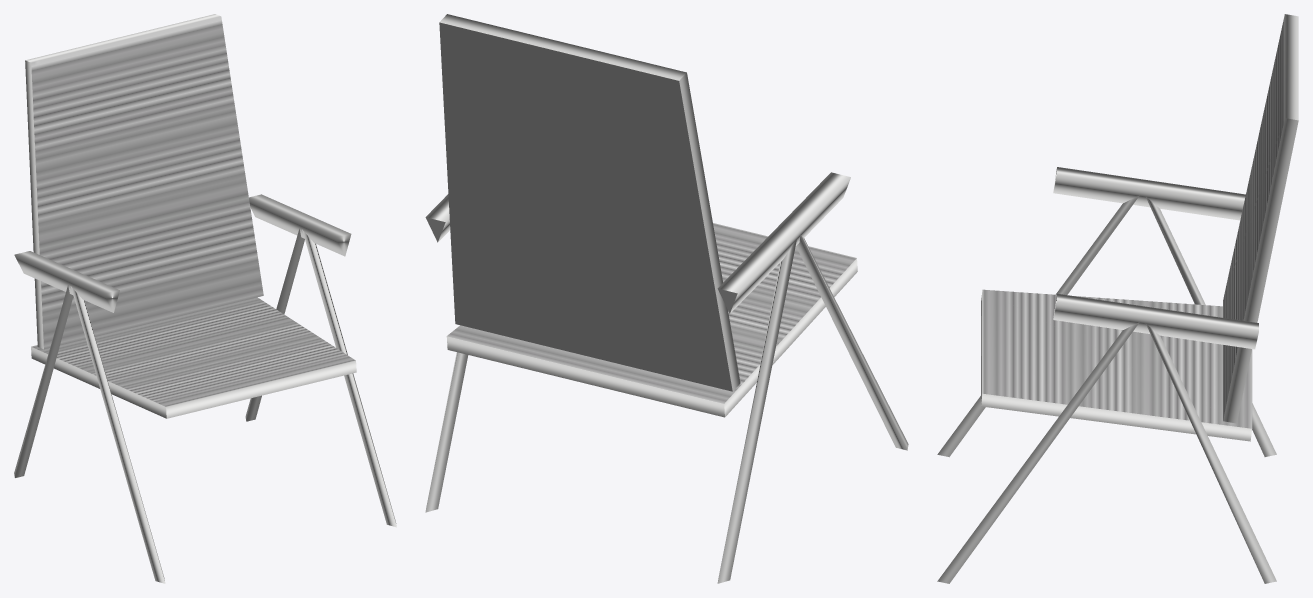
File: Lawn_Chair.fbx
3 renders of one model, left to right at view 1: azimuth 30°, elevation 25°; view 2: azimuth 150°, elevation 25°; view 3: azimuth 270°, elevation 25°, orthographic. The views are drawn at different scales.
Visible parts, largest first — view 1: Lawn_Chair_1; view 2: Lawn_Chair_1; view 3: Lawn_Chair_1.
Part boxes in pixels (bbox=[...]): Lawn_Chair_1: bbox=[14, 14, 396, 583]; Lawn_Chair_1: bbox=[425, 14, 908, 583]; Lawn_Chair_1: bbox=[937, 14, 1298, 583].
Bounding box in the file's own units: 0.7839 × 1.22 × 0.8839.
